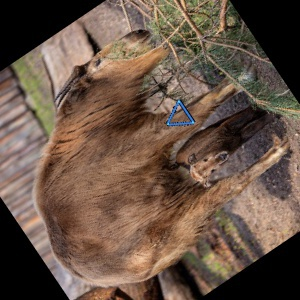triangle: (164, 97, 196, 128)
